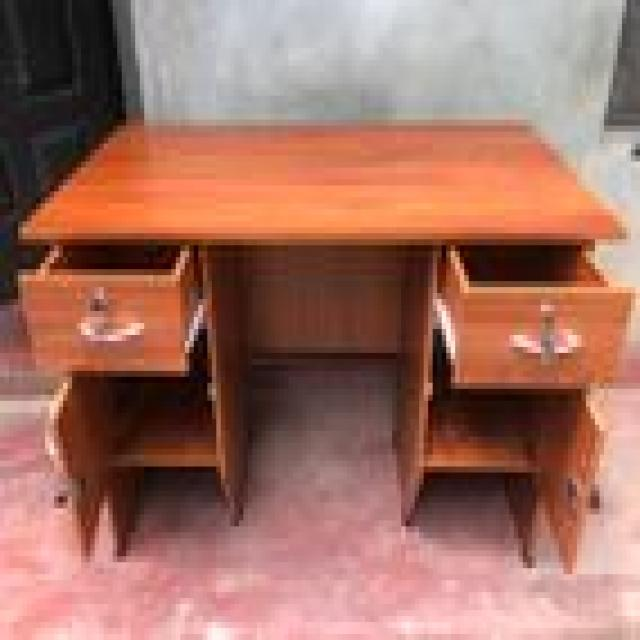others: (9, 108, 640, 574)
